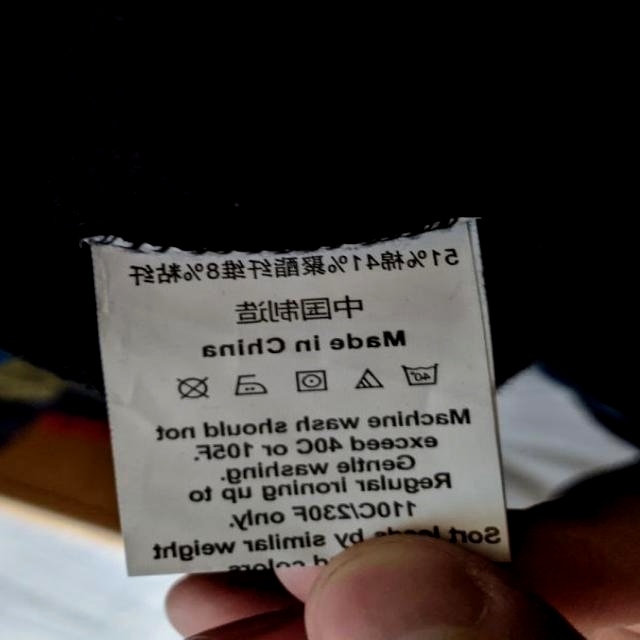40C: (396, 360, 444, 389)
DN_dry_clean: (171, 373, 213, 402)
iron_medium: (231, 371, 270, 397)
non_chlorine_bleach: (352, 367, 383, 393)
tumble_dry_low: (288, 365, 329, 393)
